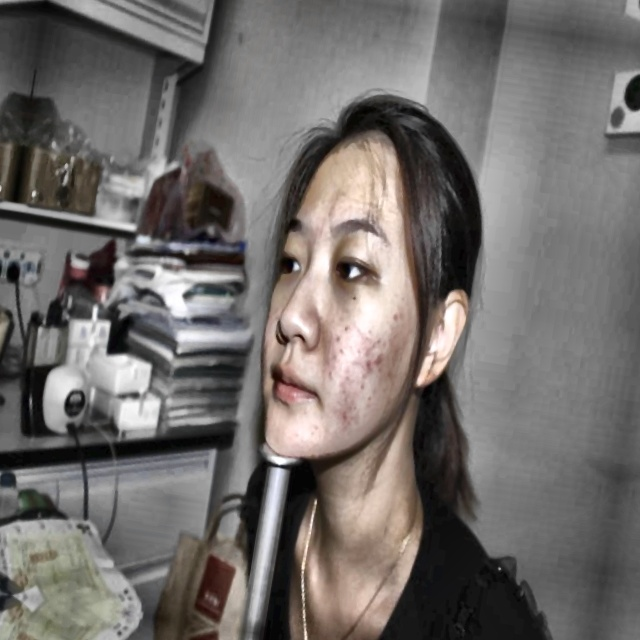comedone: (333, 402, 351, 431), (373, 345, 384, 367), (394, 306, 404, 323), (382, 371, 396, 383)
